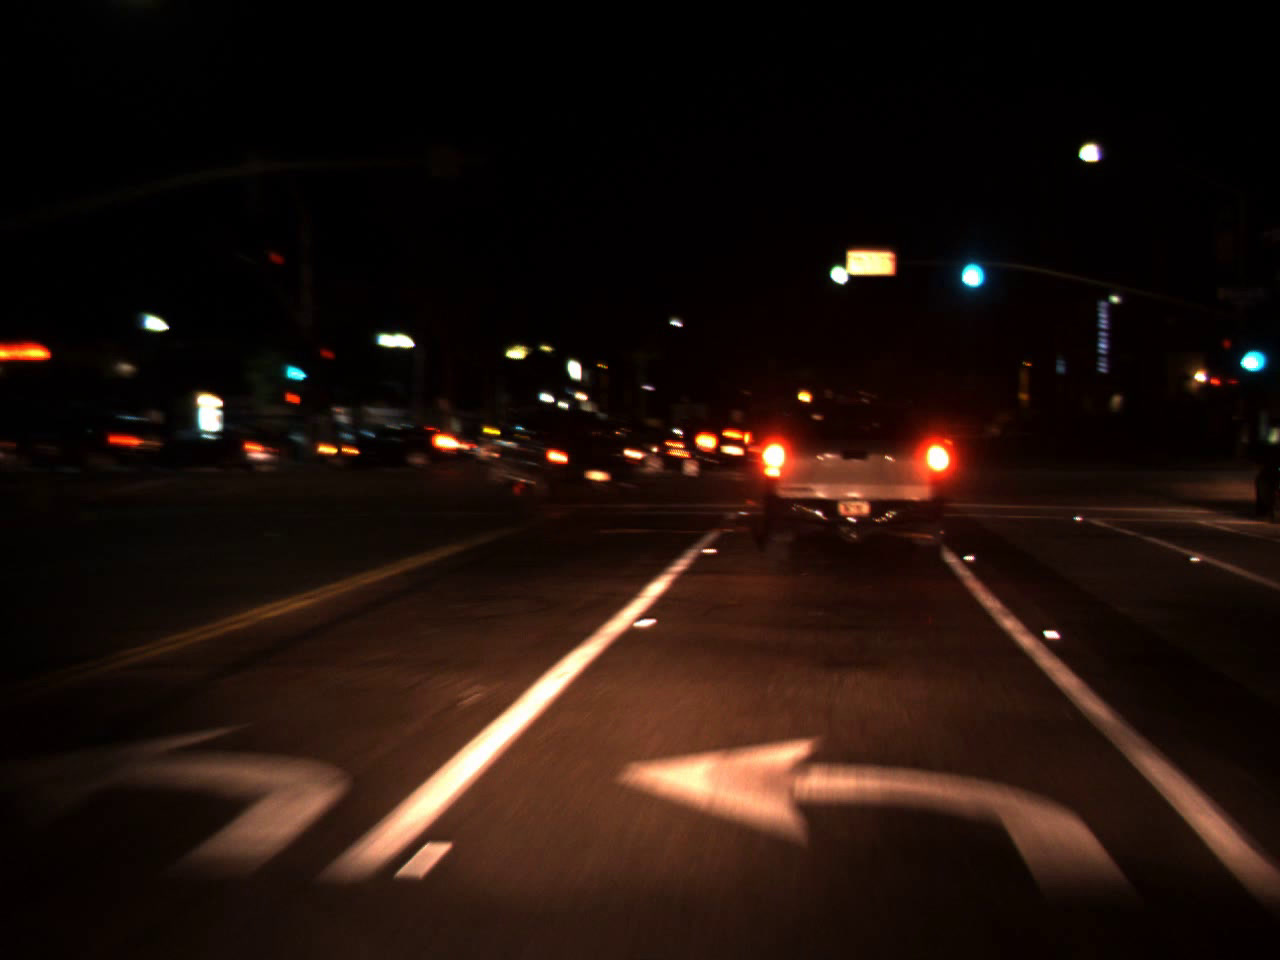go: (951, 233, 988, 296), (1234, 330, 1262, 381), (825, 245, 850, 290), (280, 350, 308, 386)
